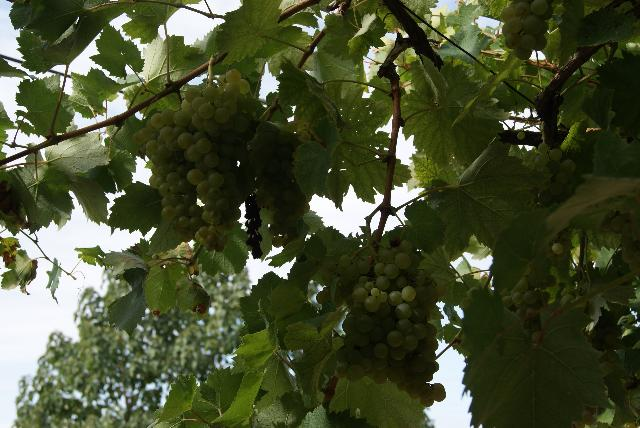grapes: (318, 240, 446, 408), (178, 70, 259, 249), (134, 109, 206, 242), (250, 120, 306, 228)
